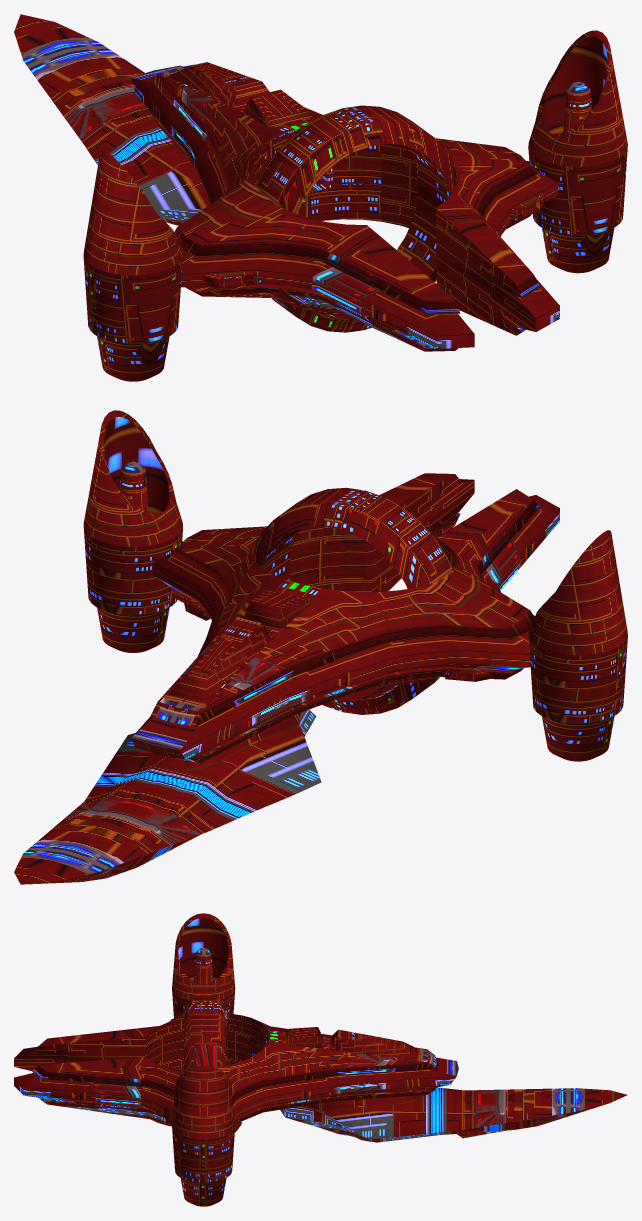
File: Vul_Vankara.fbx
The picture shows the model from 3 angles, top to bottom: view 1: azimuth 30°, elevation 25°; view 2: azimuth 150°, elevation 25°; view 3: azimuth 270°, elevation 25°; orthographic projection. The views are drawn at different scales.
Parts seen in each view (by area): view 1: Vul_Vankara; view 2: Vul_Vankara; view 3: Vul_Vankara.
Boxes of the visible parts, box(x1,y1,x2,y2) form: Vul_Vankara: box(14, 14, 627, 381); Vul_Vankara: box(14, 410, 627, 884); Vul_Vankara: box(14, 913, 627, 1206).
Bounding box in the file's own units: 338 × 141 × 535.
1 material, 1 textured.
